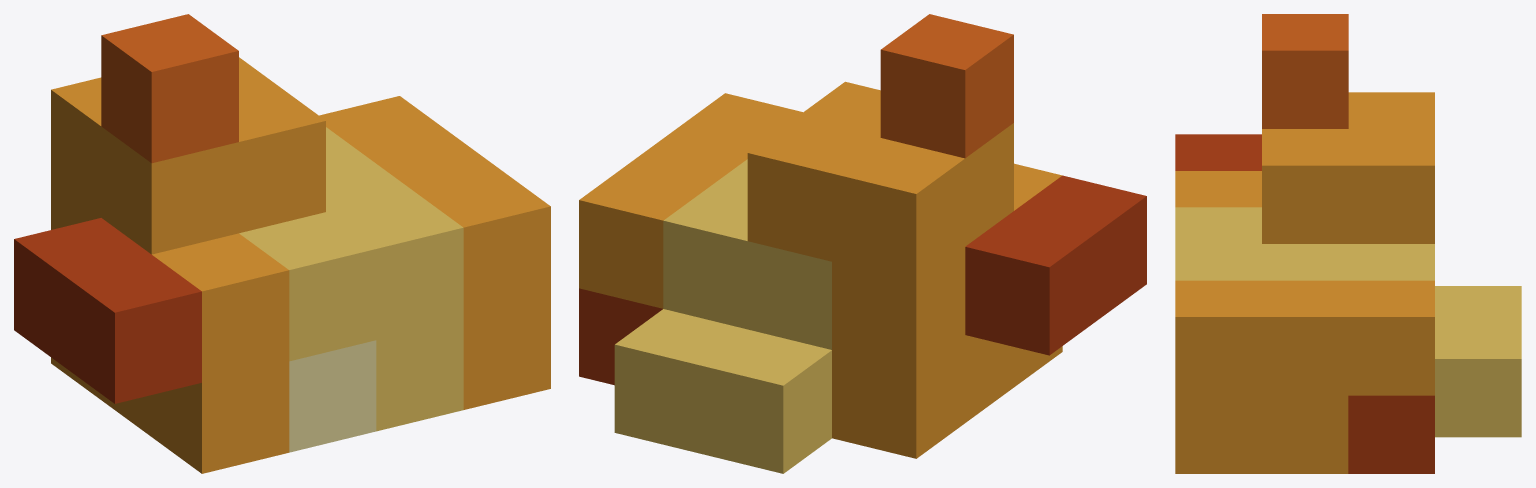
The model's file is flame_04.glb.
3 views of the same model, side by side, from view 1: azimuth 30°, elevation 25°; view 2: azimuth 150°, elevation 25°; view 3: azimuth 270°, elevation 25° (orthographic). The views are drawn at different scales.
Parts seen in each view (by area): view 1: flame_04; view 2: flame_04; view 3: flame_04.
Part boxes in pixels (box(x1,y1,x2,y2)): flame_04: box(14, 14, 550, 473); flame_04: box(579, 14, 1146, 473); flame_04: box(1175, 14, 1521, 473).
Size of the model in its own units: 0.625 by 0.5 by 0.5.
